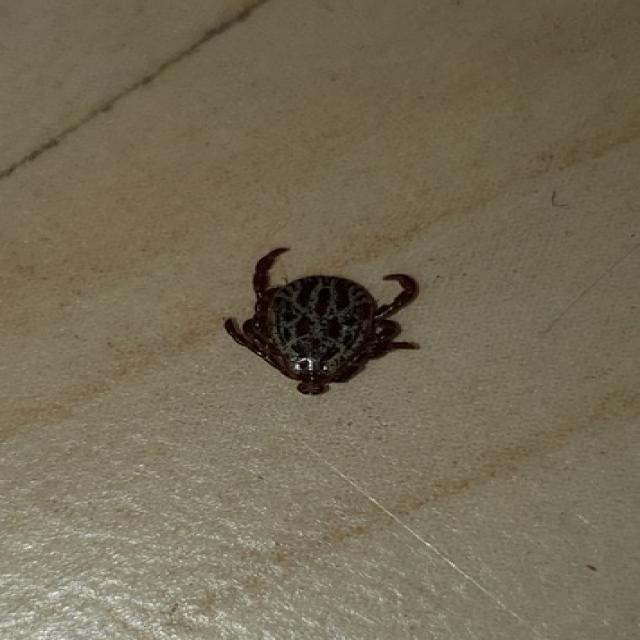Dermacentor Reticulatus-M: (225, 247, 419, 394)
